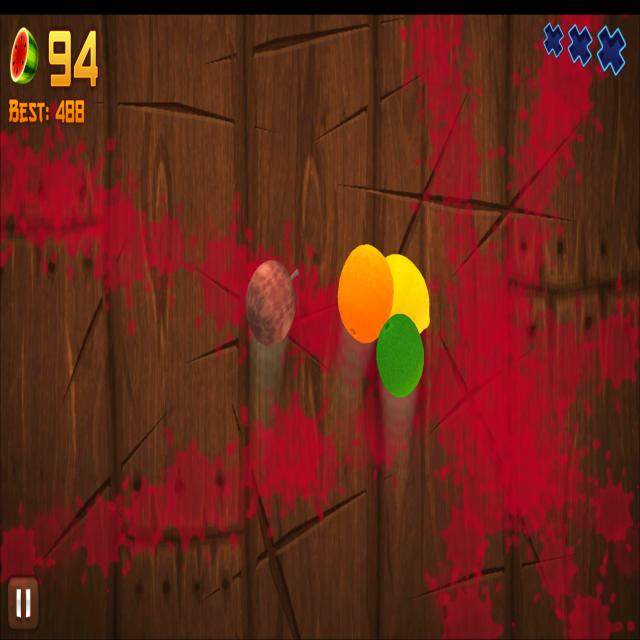fruit: (338, 243, 394, 345), (246, 260, 296, 347), (376, 313, 424, 397), (383, 252, 430, 336)
